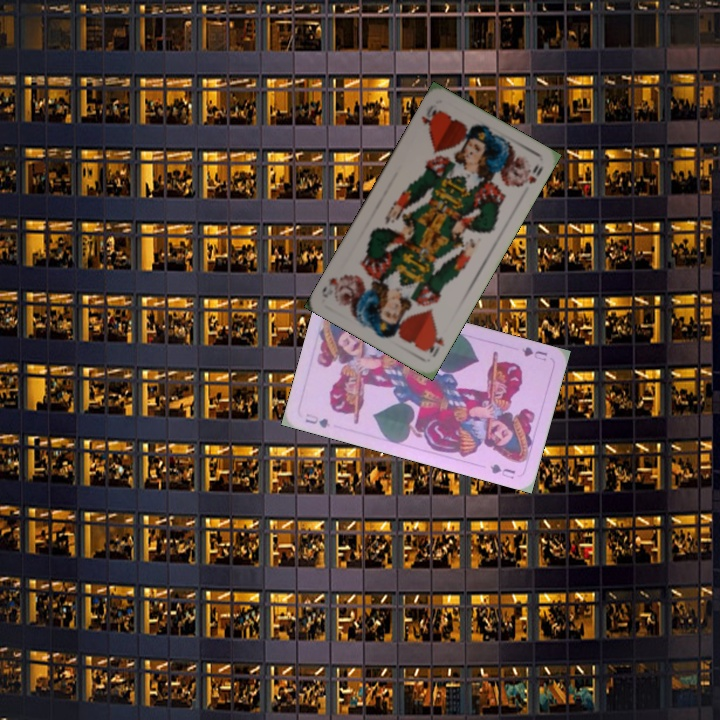GU: (301, 409, 333, 431), (518, 343, 550, 364)
HO: (421, 326, 447, 360), (417, 101, 442, 133)
